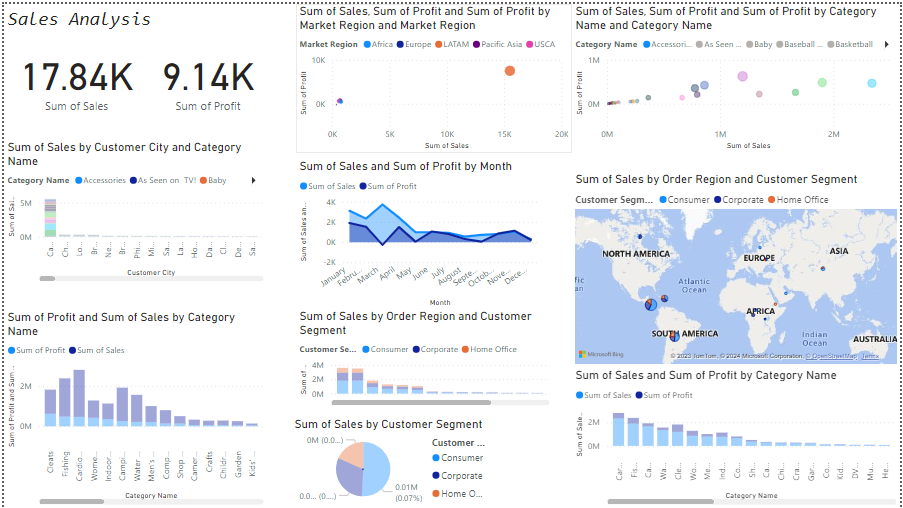

Layout of this report page (visuals, bound fields, positions):
{"tool":"powerbi","page":{"name":"Page 1","canvas":[1280,720],"ordinal":0},"visuals":[{"type":"columnChart","fields":{"Y":["Sum(Sales Data.Profit)","Sum(Sales Data.Sales)"],"Category":["Sales Data.Category Name"]},"box":[0,437.1,375.7,282.9],"z":0},{"type":"card","fields":{"Values":["Sum(Sales Data.Sales)"]},"box":[0,57.1,207.1,100],"z":2000},{"type":"card","fields":{"Values":["Sum(Sales Data.Profit)"]},"box":[207.1,57.1,168.6,100],"z":3000},{"type":"columnChart","fields":{"Category":["Sales Data.Customer City"],"Y":["Sum(Sales Data.Sales)"],"Series":["Sales Data.Category Name"]},"box":[0,194.3,375.7,207.1],"z":4000},{"type":"scatterChart","fields":{"X":["Sum(Sales Data.Sales)"],"Category":["Sales Data.Category Name"],"Series":["Sales Data.Category Name"],"Size":["Sum(Sales Data.Profit)"],"Y":["Sum(Sales Data.Profit)"]},"box":[811.4,0,468.6,212.9],"z":6001},{"type":"map","fields":{"Category":["Sales Data.Order Region"],"Size":["Sum(Sales Data.Sales)"],"Series":["Sales Data.Customer Segment"]},"box":[811.4,240,468.6,280],"z":6002},{"type":"areaChart","fields":{"Category":["Sales Data.Order Date.Variation.Date Hierarchy.Month"],"Y":["Sum(Sales Data.Sales)","Sum(Sales Data.Profit)"]},"box":[417.1,221.4,350,215.7],"z":6003},{"type":"columnChart","fields":{"Y":["Sum(Sales Data.Sales)"],"Category":["Sales Data.Order Region"],"Series":["Sales Data.Customer Segment"]},"box":[417.1,435.7,367.1,142.9],"z":6004},{"type":"columnChart","fields":{"Y":["Sum(Sales Data.Sales)","Sum(Sales Data.Profit)"],"Category":["Sales Data.Category Name"]},"box":[811.4,520,468.6,200],"z":6005},{"type":"scatterChart","fields":{"Y":["Sum(Sales Data.Profit)"],"X":["Sum(Sales Data.Sales)"],"Category":["Sales Data.Market Region"],"Series":["Sales Data.Market Region"],"Size":["Sum(Sales Data.Profit)"]},"box":[417.1,0,394.3,212.9],"z":6006},{"type":"pieChart","fields":{"Category":["Sales Data.Customer Segment"],"Y":["Sum(Sales Data.Sales)"]},"box":[410,590,291.4,130],"z":6007},{"type":"textbox","box":[0,0,300,80],"z":6008}]}

Visuals, with their boxes in screenshot pixels (x1, y1, x2, y2), scaled from the page's 1280x720 canvas onto the 903x508 screenshot:
columnChart - Sum(Sales Data.Profit) x Sum(Sales Data.Sales): bbox=(0, 308, 265, 507)
card - Sum(Sales Data.Sales): bbox=(0, 40, 146, 111)
card - Sum(Sales Data.Profit): bbox=(146, 40, 265, 111)
columnChart - Sales Data.Customer City x Sum(Sales Data.Sales): bbox=(0, 137, 265, 283)
scatterChart - Sum(Sales Data.Sales) x Sales Data.Category Name: bbox=(572, 0, 902, 150)
map - Sales Data.Order Region x Sum(Sales Data.Sales): bbox=(572, 169, 902, 367)
areaChart - Sales Data.Order Date.Variation.Date Hierarchy.Month x Sum(Sales Data.Sales): bbox=(294, 156, 541, 308)
columnChart - Sum(Sales Data.Sales) x Sales Data.Order Region: bbox=(294, 307, 553, 408)
columnChart - Sum(Sales Data.Sales) x Sum(Sales Data.Profit): bbox=(572, 367, 902, 507)
scatterChart - Sum(Sales Data.Profit) x Sum(Sales Data.Sales): bbox=(294, 0, 572, 150)
pieChart - Sales Data.Customer Segment x Sum(Sales Data.Sales): bbox=(289, 416, 495, 507)
textbox: bbox=(0, 0, 212, 56)
